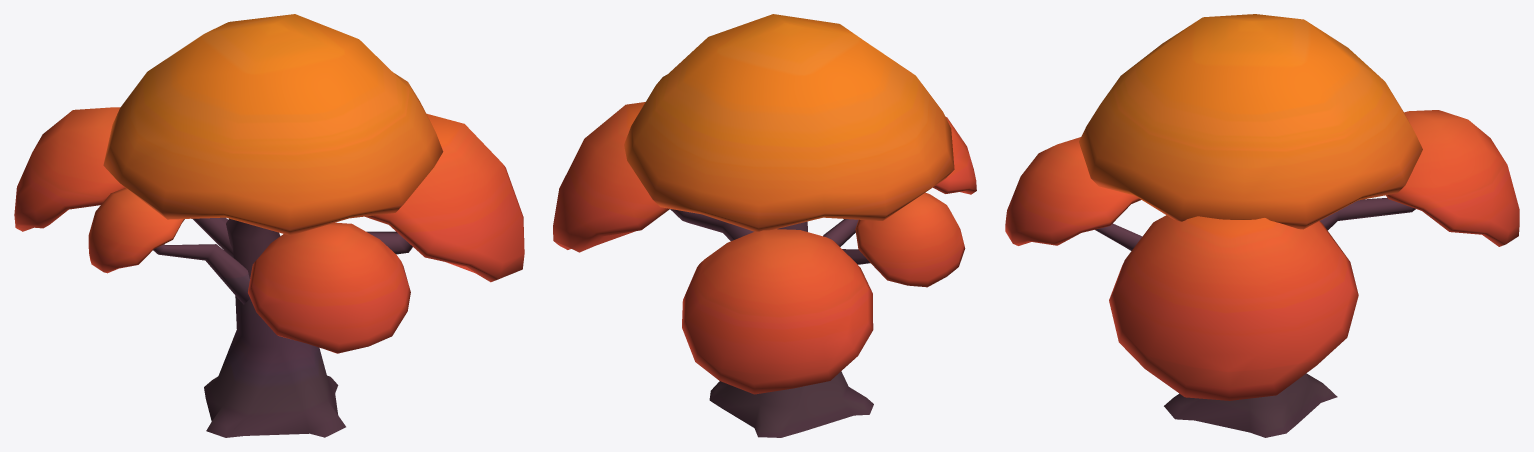
The model's file is Tree_15.fbx.
3 renders of one model, left to right at view 1: azimuth 30°, elevation 25°; view 2: azimuth 150°, elevation 25°; view 3: azimuth 270°, elevation 25°, orthographic.
Visible parts, largest first — view 1: Tree_15; view 2: Tree_15; view 3: Tree_15.
Part boxes in pixels (x1,y1,x2,y2): Tree_15: (14,14,524,437); Tree_15: (553,14,976,437); Tree_15: (1005,14,1519,437).
Bounding box in the file's own units: 477 × 434 × 530.
